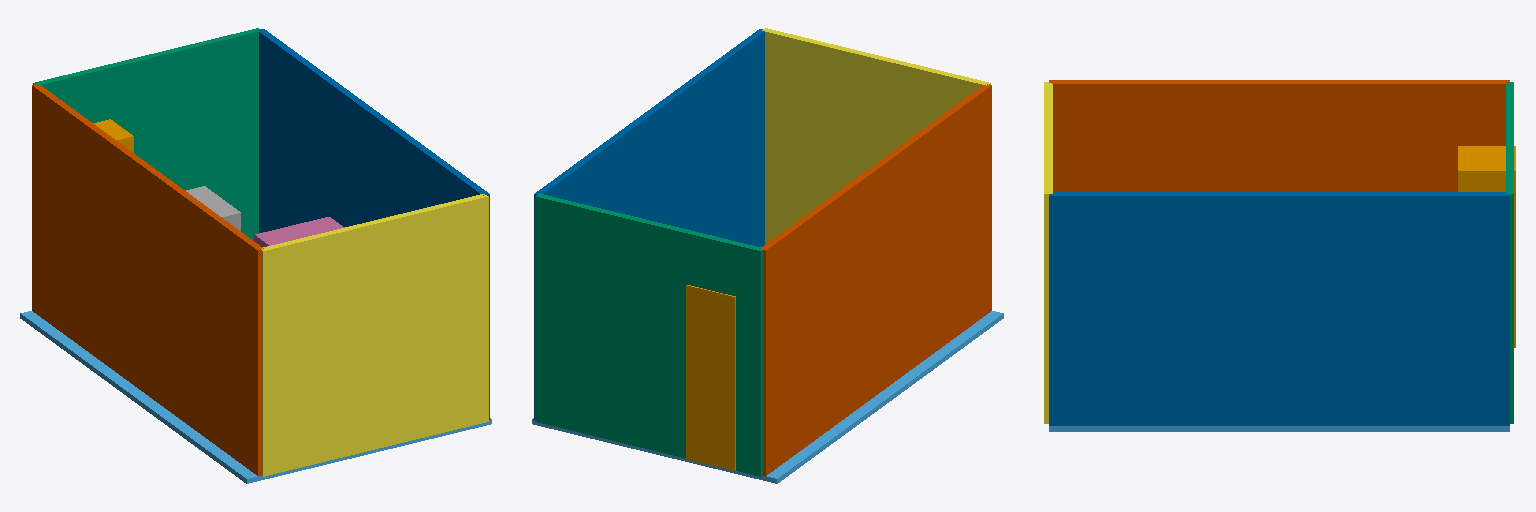
The robot description file, URDF, robot "ground":
<?xml version="1.0" ?>
<robot name="ground" xmlns:xacro="http://ros.org/wiki/xacro">
    <link name="world" />
    <link name="ground_link">
        <inertial>
            <mass value="1.0" />
            <origin xyz="0 0 0" rpy="0 0 0" />
            <inertia ixx="1.0" ixy="0" ixz="0" iyy="1.0" iyz="0" izz="1.0" />
        </inertial>
        <visual>
            <origin xyz="0.5 0 -0.025" rpy="0 0 0" />
            <geometry>
                <box size="2.5 4.0 0.05" />
            </geometry>
        </visual>
    </link>

    <link name="cage_1">
       <inertial>
            <mass value="1.0" />
            <origin xyz="0 0 0" rpy="0 0 0" />
            <inertia ixx="1.0" ixy="0" ixz="0" iyy="1.0" iyz="0" izz="1.0" />
       </inertial>
      <visual>
      <origin xyz="0.55 2 1.1" rpy="0 0 0" />
        <geometry>
          <box size="2.3 0.07 2.2" />
        </geometry>
      </visual>
    </link>

    <link name="cage_2">
       <inertial>
            <mass value="1.0" />
            <origin xyz="0 0 0" rpy="0 0 0" />
            <inertia ixx="1.0" ixy="0" ixz="0" iyy="1.0" iyz="0" izz="1.0" />
       </inertial>
      <visual>
      <origin xyz="0.55 -2 1.1" rpy="0 0 0" />
        <geometry>
          <box size="2.3 0.07 2.2" />
        </geometry>
      </visual>
    </link>


    <link name="cage_3">
       <inertial>
            <mass value="1.0" />
            <origin xyz="0 0 0" rpy="0 0 0" />
            <inertia ixx="1.0" ixy="0" ixz="0" iyy="1.0" iyz="0" izz="1.0" />
       </inertial>
      <visual>
      <origin xyz="1.7 0 1.1" rpy="0 0 0" />
        <geometry>
          <box size="0.07 4 2.2" />
        </geometry>
      </visual>
    </link>


    <link name="cage_4">
       <inertial>
            <mass value="1.0" />
            <origin xyz="0 0 0" rpy="0 0 0" />
            <inertia ixx="1.0" ixy="0" ixz="0" iyy="1.0" iyz="0" izz="1.0" />
       </inertial>
      <visual>
      <origin xyz="-0.6 0 1.1" rpy="0 0 0" />
        <geometry>
          <box size="0.07 4 2.2" />
        </geometry>
      </visual>
    </link>


    <link name="post_collaboratif">
       <inertial>
            <mass value="1.0" />
            <origin xyz="0 0 0" rpy="0 0 0" />
            <inertia ixx="1.0" ixy="0" ixz="0" iyy="1.0" iyz="0" izz="1.0" />
       </inertial>
      <visual>
      <origin xyz="1.3 0.17 0.45" rpy="0 0 0" />
        <geometry>
          <box size="0.8 1.1 0.9" />
        </geometry>
      </visual>
    </link>

    <link name="table_usinage">
       <inertial>
            <mass value="1.0" />
            <origin xyz="0 0 0" rpy="0 0 0" />
            <inertia ixx="1.0" ixy="0" ixz="0" iyy="1.0" iyz="0" izz="1.0" />
       </inertial>
      <visual>
      <origin xyz="0.63 1.5 0.45" rpy="0 0 0" />
        <geometry>
          <box size="0.8 0.65 0.9" />
        </geometry>
      </visual>
    </link>


    <link name="distributeur">
       <inertial>
            <mass value="1.0" />
            <origin xyz="0 0 0" rpy="0 0 0" />
            <inertia ixx="1.0" ixy="0" ixz="0" iyy="1.0" iyz="0" izz="1.0" />
       </inertial>
      <visual>
      <origin xyz="-0.1 1.8 0.85" rpy="0 0 0" />
        <geometry>
          <box size="0.5 0.5 1.7" />
        </geometry>
      </visual>
    </link>

    <joint name="cage_1" type="fixed">
        <origin xyz="0 0 0" rpy="0 0 0" />
        <parent link="world" />
        <child link="cage_1" />
    </joint>

    <joint name="cage_2" type="fixed">
        <origin xyz="0 0 0" rpy="0 0 0" />
        <parent link="world" />
        <child link="cage_2" />
    </joint>

    <joint name="cage_3" type="fixed">
        <origin xyz="0 0 0" rpy="0 0 0" />
        <parent link="world" />
        <child link="cage_3" />
    </joint>

    <joint name="cage_4" type="fixed">
        <origin xyz="0 0 0" rpy="0 0 0" />
        <parent link="world" />
        <child link="cage_4" />
    </joint>

    <joint name="post_collaboratif" type="fixed">
        <origin xyz="0 0 0" rpy="0 0 0" />
        <parent link="world" />
        <child link="post_collaboratif" />
    </joint>

    <joint name="table_usinage" type="fixed">
        <origin xyz="0 0 0" rpy="0 0 0" />
        <parent link="world" />
        <child link="table_usinage" />
    </joint>

    <joint name="distributeur" type="fixed">
        <origin xyz="0 0 0" rpy="0 0 0" />
        <parent link="world" />
        <child link="distributeur" />
    </joint>

    <joint name="ground_joint" type="fixed">
        <origin xyz="0 0 0" rpy="0 0 0" />
        <parent link="world" />
        <child link="ground_link" />
    </joint>

</robot>

--- What the picture shows (computed from the rendered views, not written in the file) ---
The picture shows the robot from 3 angles, left to right: view 1: azimuth 30°, elevation 25°; view 2: azimuth 150°, elevation 25°; view 3: azimuth 270°, elevation 25°; orthographic projection.
Model ground with 9 links and 8 joints (8 fixed), rooted at world, posed all joints at 0.
Links seen in each view (by area): view 1: cage_4, cage_2, cage_3, cage_1, ground_link, post_collaboratif, table_usinage, distributeur; view 2: cage_4, cage_1, cage_3, cage_2, distributeur, ground_link; view 3: cage_3, cage_4, ground_link, distributeur, cage_2, cage_1.
Link boxes in pixels (bbox=[...]): cage_4: bbox=[32, 84, 263, 475]; cage_2: bbox=[261, 194, 488, 476]; cage_3: bbox=[257, 29, 489, 419]; cage_1: bbox=[33, 28, 259, 240]; ground_link: bbox=[20, 311, 491, 483]; post_collaboratif: bbox=[254, 217, 344, 246]; table_usinage: bbox=[186, 186, 240, 230]; distributeur: bbox=[93, 119, 133, 152]; cage_4: bbox=[761, 84, 991, 475]; cage_1: bbox=[535, 194, 763, 476]; cage_3: bbox=[534, 29, 764, 419]; cage_2: bbox=[762, 28, 990, 243]; distributeur: bbox=[686, 285, 735, 470]; ground_link: bbox=[532, 311, 1003, 483]; cage_3: bbox=[1049, 192, 1509, 425]; cage_4: bbox=[1049, 80, 1509, 191]; ground_link: bbox=[1049, 426, 1509, 431]; distributeur: bbox=[1458, 146, 1515, 347]; cage_2: bbox=[1044, 82, 1052, 423]; cage_1: bbox=[1506, 82, 1513, 423].
Size in the robot's own frame: 2.5 by 4.08 by 2.25 metres.
Geometry: primitives only (box / cylinder / sphere), no mesh files.